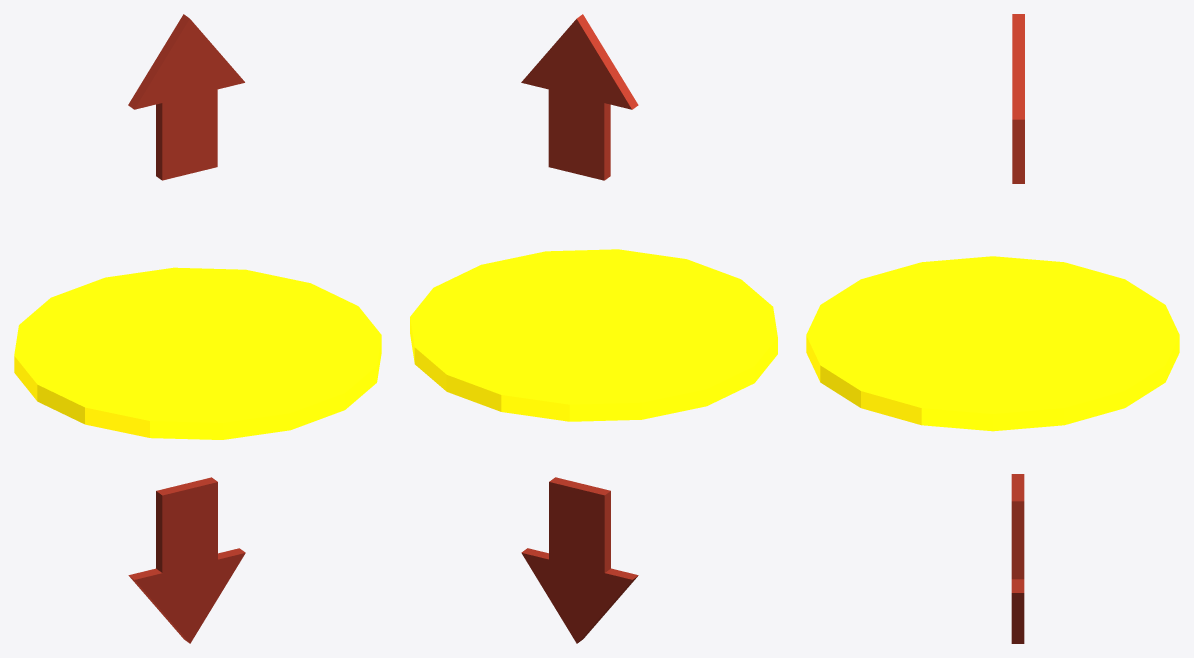
The model's file is Vertical_Yellow_Pad.glb.
3 views of the same model, side by side, from view 1: azimuth 30°, elevation 25°; view 2: azimuth 150°, elevation 25°; view 3: azimuth 270°, elevation 25° (orthographic).
Parts seen in each view (by area): view 1: Cylinder.019, Plane, Plane.001; view 2: Cylinder.019, Plane.001, Plane; view 3: Cylinder.019, Plane, Plane.001.
Part boxes in pixels (box(x1,y1,x2,y2)): Cylinder.019: box(14, 267, 381, 439); Plane: box(128, 477, 245, 643); Plane.001: box(128, 14, 244, 180); Cylinder.019: box(410, 249, 777, 421); Plane.001: box(521, 14, 638, 180); Plane: box(521, 477, 638, 643); Cylinder.019: box(806, 256, 1179, 431); Plane: box(1011, 474, 1024, 643); Plane.001: box(1012, 14, 1024, 183).
Size of the model in its own units: 2 by 3.72 by 2.
2 materials, 2 textured.
